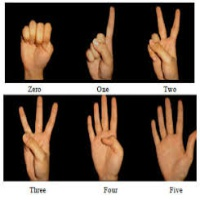ring: (154, 104, 169, 140), (16, 105, 33, 135), (92, 101, 103, 136), (29, 20, 37, 50), (89, 42, 100, 59), (152, 33, 160, 43)
